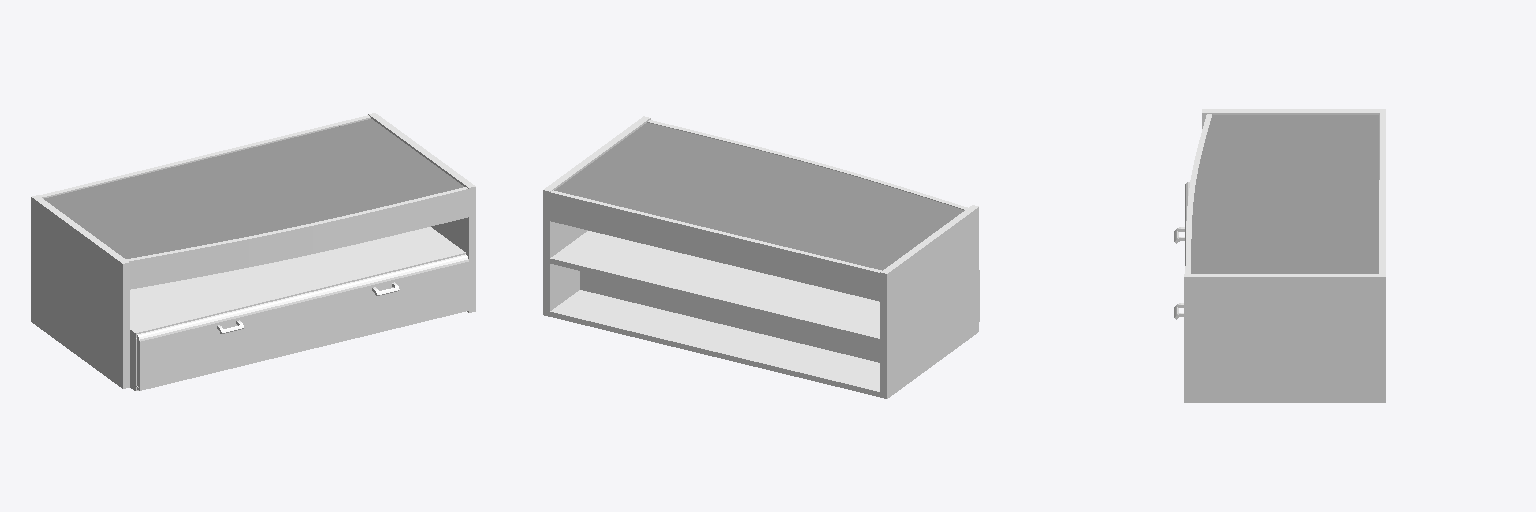
The model's file is tableBasse2.obj.
3 views of the same model, side by side, from view 1: azimuth 30°, elevation 25°; view 2: azimuth 150°, elevation 25°; view 3: azimuth 270°, elevation 25° (orthographic).
Visible parts, largest first — view 1: Boolean_1_9, Cube_8_11, Cube_1_1, Cube_4_4, Extruded_Object_4_8, Boolean_2_13, Cube_3_3, Cube_2_2; view 2: Boolean_1_9, Cube_4_4, Cube_1_1, Cube_7_7, Cube_2_2, Cube_6_6, Cube_3_3, Extruded_Object_4_8; view 3: Boolean_1_9, Cube_3_3, Cube_1_1, Cube_2_2, Extruded_Object_4_8.
Part boxes in pixels (left/top/right/bottom): Boolean_1_9: left=44, top=119, right=463, bottom=258; Cube_8_11: left=137, top=262, right=468, bottom=390; Cube_1_1: left=31, top=195, right=129, bottom=388; Cube_4_4: left=130, top=227, right=465, bottom=338; Extruded_Object_4_8: left=126, top=187, right=468, bottom=289; Boolean_2_13: left=137, top=254, right=468, bottom=341; Cube_3_3: left=368, top=113, right=475, bottom=312; Cube_2_2: left=39, top=115, right=370, bottom=198; Boolean_1_9: left=554, top=123, right=964, bottom=270; Cube_4_4: left=550, top=231, right=879, bottom=343; Cube_1_1: left=880, top=205, right=978, bottom=398; Cube_7_7: left=550, top=290, right=879, bottom=396; Cube_2_2: left=550, top=190, right=881, bottom=301; Cube_6_6: left=580, top=271, right=879, bottom=362; Cube_3_3: left=543, top=116, right=650, bottom=316; Extruded_Object_4_8: left=647, top=120, right=967, bottom=209; Boolean_1_9: left=1191, top=115, right=1378, bottom=273; Cube_3_3: left=1184, top=274, right=1385, bottom=402; Cube_1_1: left=1202, top=109, right=1385, bottom=179; Cube_2_2: left=1380, top=113, right=1385, bottom=273; Extruded_Object_4_8: left=1185, top=114, right=1212, bottom=273.
Size of the model in its own units: 1.17 by 0.408 by 0.6237.